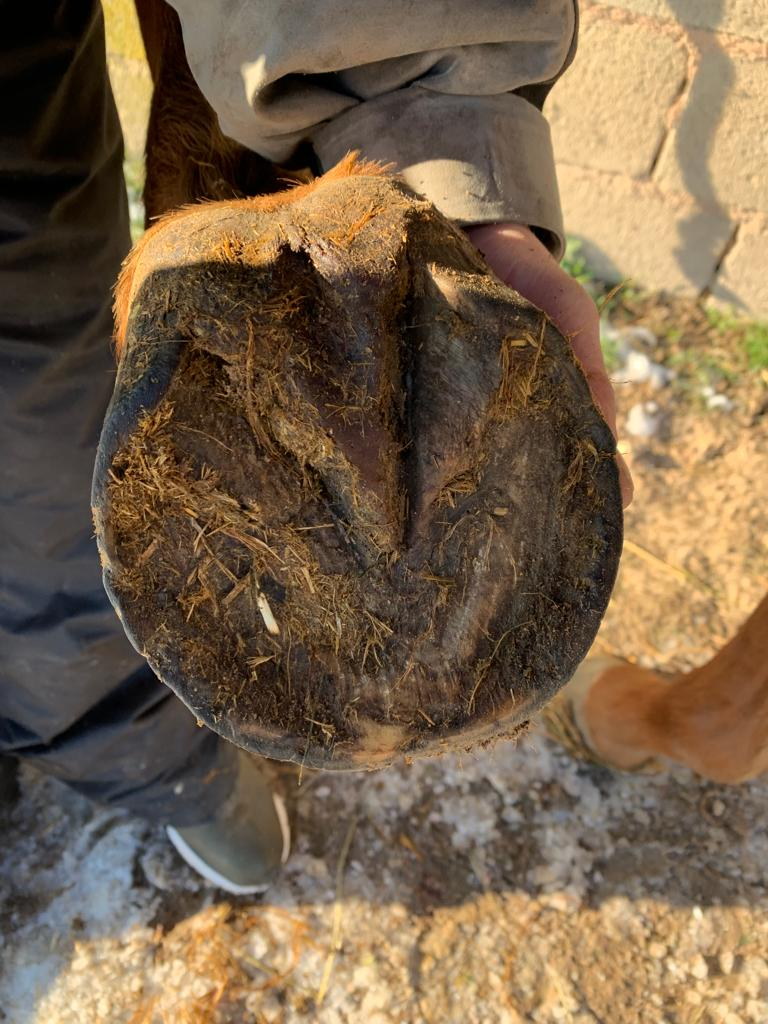horsesole: (90, 258, 624, 771)
